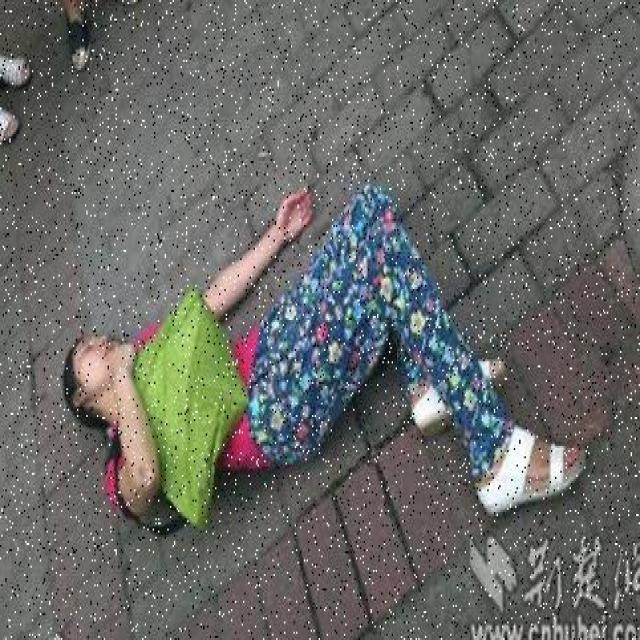fall: (45, 198, 584, 514)
